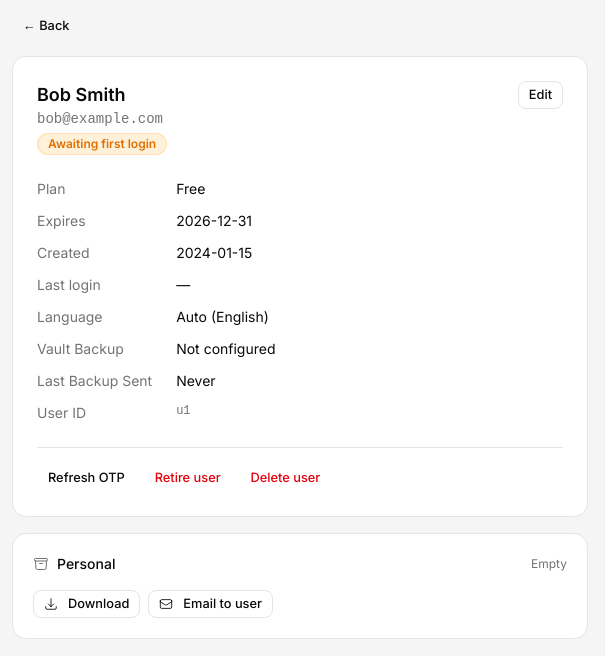
Test: UserDetailPage › shows Confirm delete / Cancel buttons before deleting
Click the button "Delete user". click: (285,478)
box: [240, 464, 331, 492]
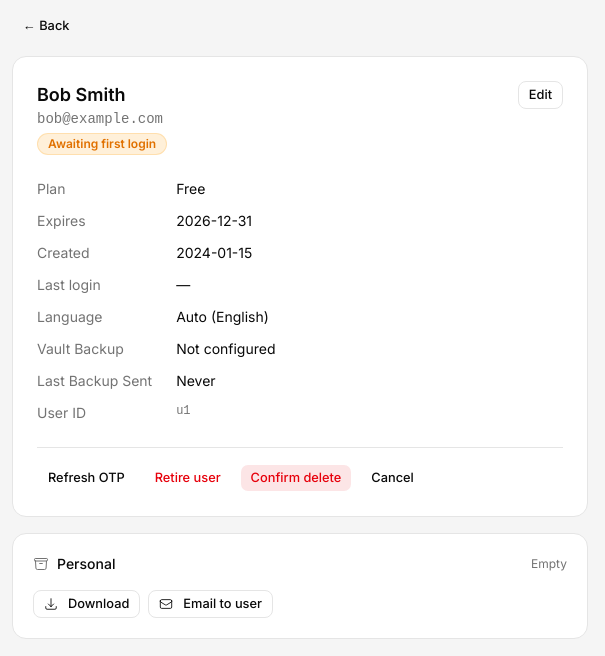
Check: the button "Confirm delete" is shown, box [240, 464, 352, 492]
Check: the button "Cancel" is shown, box [360, 464, 425, 492]
